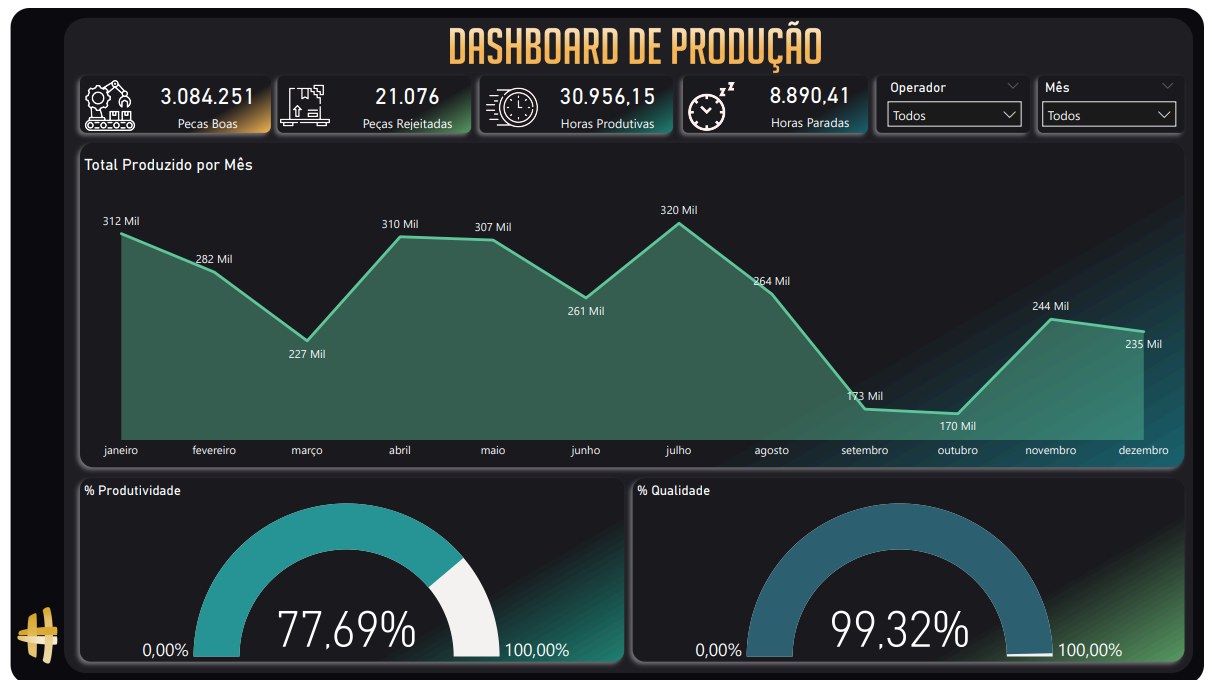

The dashboard page shown, as its layout file describes it:
{"tool":"powerbi","page":{"name":"Página 1","canvas":[1280,720],"ordinal":0},"visuals":[{"type":"card","fields":{"Values":["BaseProdução.Pecas Boas"]},"box":[146.2,68.8,143.8,65],"z":0},{"type":"card","fields":{"Values":["BaseProdução.Peças Rejeitadas"]},"box":[352.5,67.5,156.2,66.2],"z":1000},{"type":"card","fields":{"Values":["BaseProdução.Horas Produtivas"]},"box":[575,68.8,138.8,65],"z":2000},{"type":"card","fields":{"Values":["BaseProdução.Horas Paradas"]},"box":[787.5,66.2,145,67.5],"z":3000},{"type":"areaChart","fields":{"Y":["BaseProdução.Total Produzido"],"Category":["BaseProdução.Data Inicio.Variation.Hierarquia de datas.Mês"]},"box":[81.2,156.2,1180,332.5],"z":4000},{"type":"gauge","fields":{"Y":["BaseProdução.% Produtividade"]},"box":[81.2,506.2,590,195],"z":5000},{"type":"gauge","fields":{"Y":["BaseProdução.% Qualidade"]},"box":[671.2,506.2,590,195],"z":6000},{"type":"slicer","fields":{"Values":["BaseProdução.Operador"]},"box":[932.5,71.2,163.8,66.2],"z":7000},{"type":"slicer","fields":{"Values":["BaseProdução.Data Inicio.Variation.Hierarquia de datas.Mês"]},"box":[1097.5,71.2,163.8,62.5],"z":8000},{"type":"image","box":[81.2,68.8,65,68.8],"z":9000},{"type":"image","box":[290,71.2,62.5,65],"z":10000},{"type":"image","box":[510,72.5,65,65],"z":11000},{"type":"image","box":[722.5,73.8,65,61.2],"z":12000}]}

Visuals, with their boxes in screenshot pixels (x1, y1, x2, y2), scaled from the page's 1280x720 canvas onto the 1212x680 screenshot:
card - BaseProdução.Pecas Boas: crop(138, 65, 275, 126)
card - BaseProdução.Peças Rejeitadas: crop(334, 64, 482, 126)
card - BaseProdução.Horas Produtivas: crop(544, 65, 676, 126)
card - BaseProdução.Horas Paradas: crop(746, 63, 883, 126)
areaChart - BaseProdução.Total Produzido x BaseProdução.Data Inicio.Variation.Hierarquia de datas.Mês: crop(77, 148, 1194, 462)
gauge - BaseProdução.% Produtividade: crop(77, 478, 636, 662)
gauge - BaseProdução.% Qualidade: crop(636, 478, 1194, 662)
slicer - BaseProdução.Operador: crop(883, 67, 1038, 130)
slicer - BaseProdução.Data Inicio.Variation.Hierarquia de datas.Mês: crop(1039, 67, 1194, 126)
image: crop(77, 65, 138, 130)
image: crop(275, 67, 334, 129)
image: crop(483, 68, 544, 130)
image: crop(684, 70, 746, 128)
